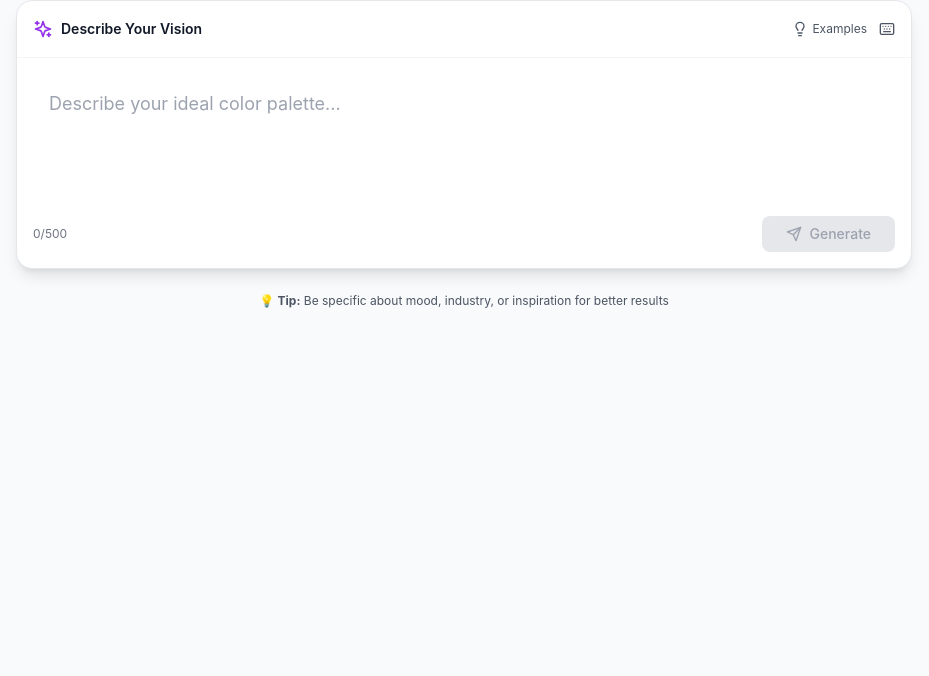
Test case: PromptInput › Examples Functionality › should populate textarea when example is clicked
The width and height of the screenshot is (929, 676).
What coordinates should you click on to do the following:
click the button "Examples"
I would click on:
 (830, 29)
Its box is top-left (788, 17), bottom-right (871, 41).
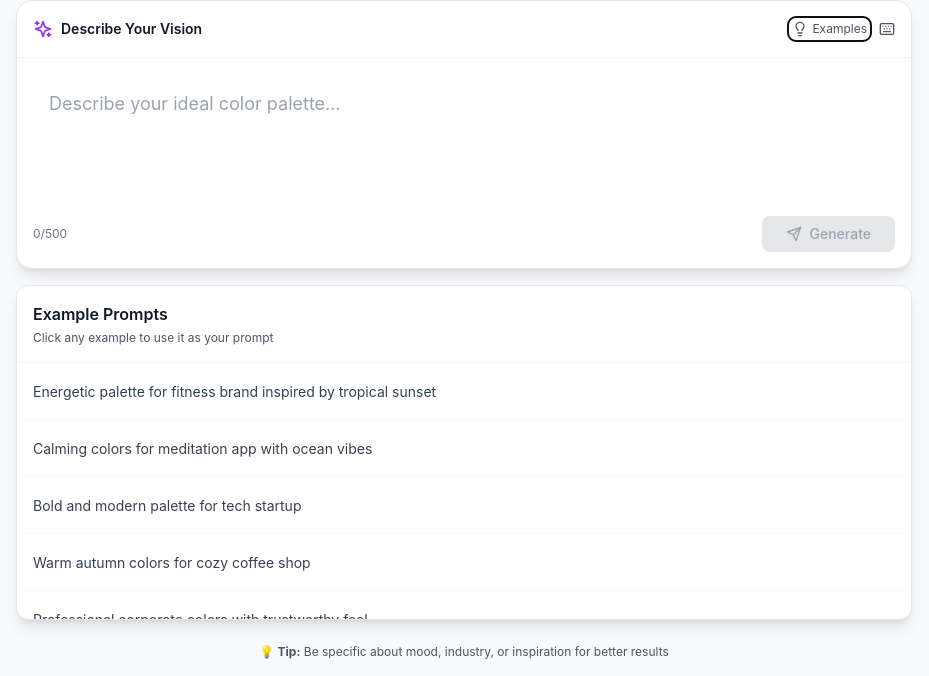
What coordinates should you click on to do the following:
click the button "Energetic palette for fitness brand inspired by tropical sunset"
I would click on:
 (235, 392)
Its box is top-left (17, 363), bottom-right (911, 420).
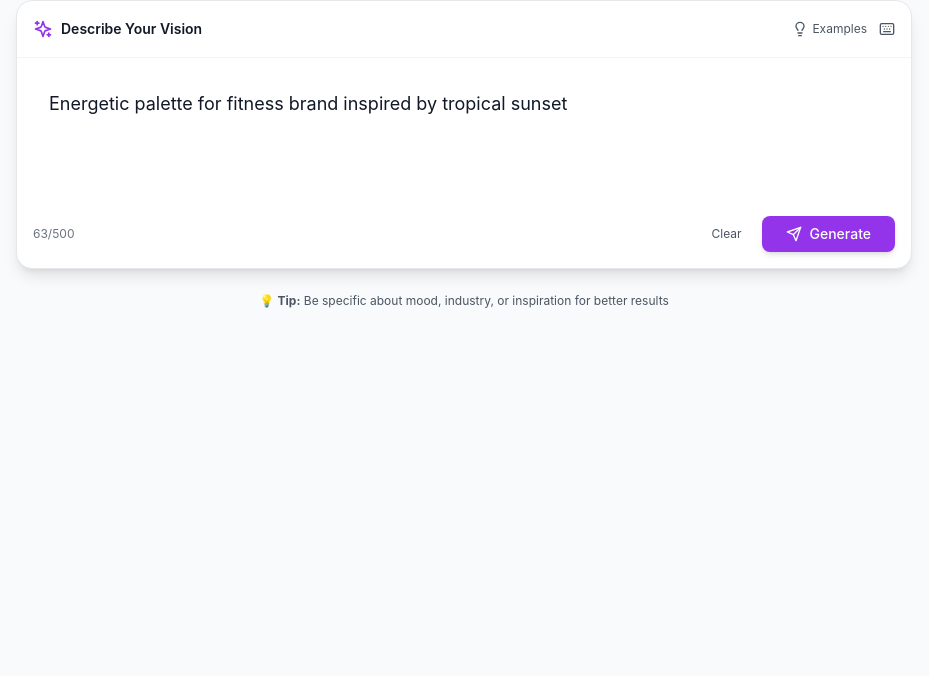
Now the text box with placeholder "Describe your ideal color palette..." holds "Energetic palette for fitness brand inspired by tropical sunset", box top-left (33, 74), bottom-right (895, 194)
